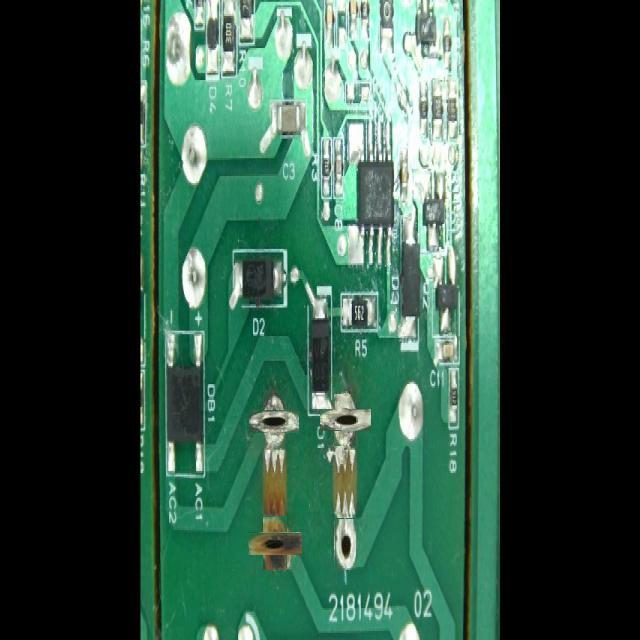damged: (256, 524, 295, 562), (326, 402, 364, 438), (256, 403, 292, 440), (334, 518, 356, 570)
